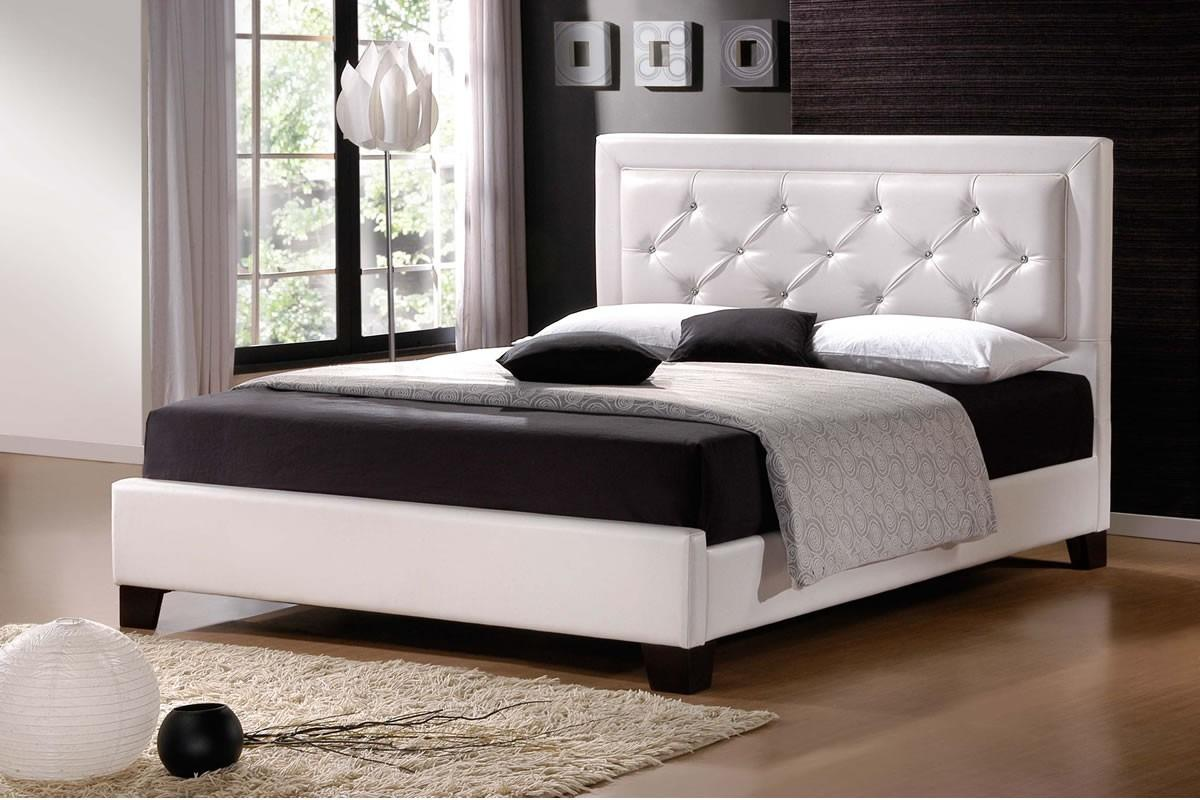bed: (160, 72, 1048, 578)
